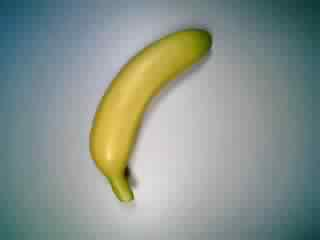banana: (85, 23, 224, 209)
